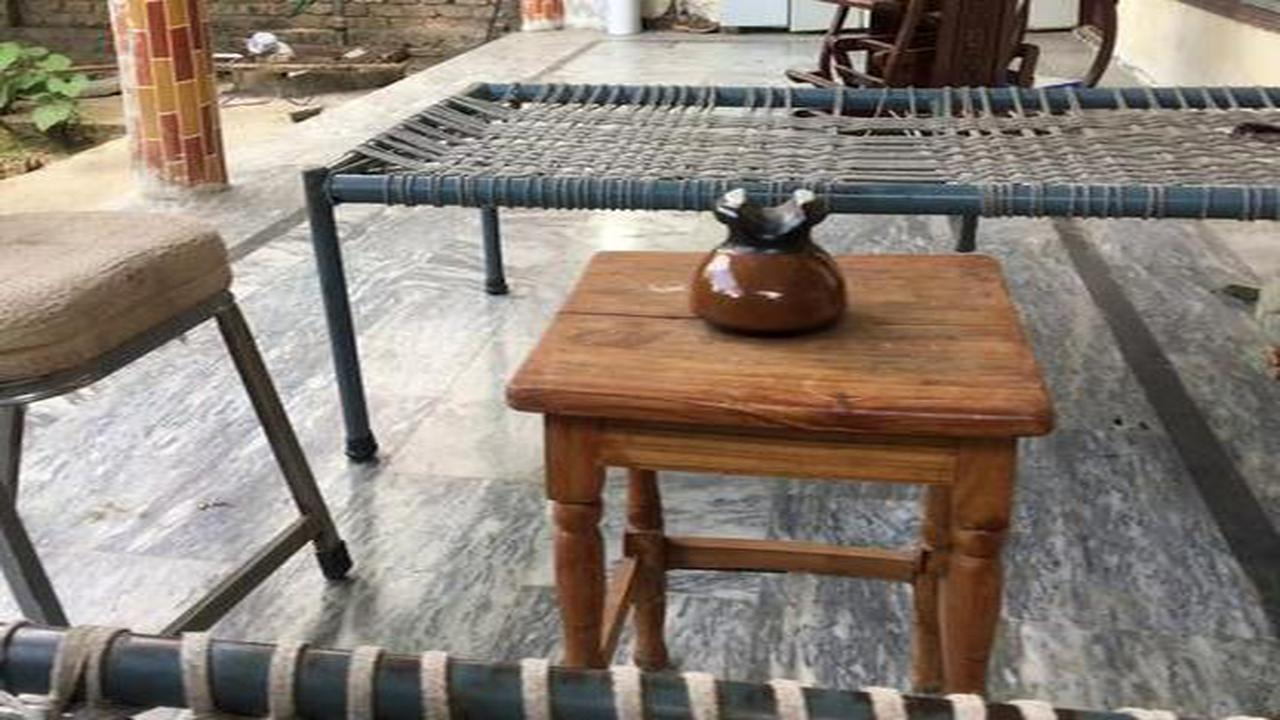insulator_pin: (668, 164, 881, 350)
